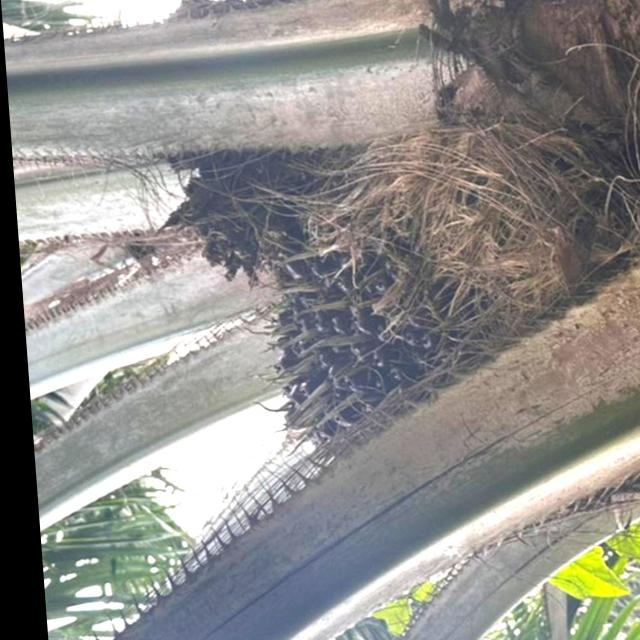almost: (236, 138, 529, 452)
